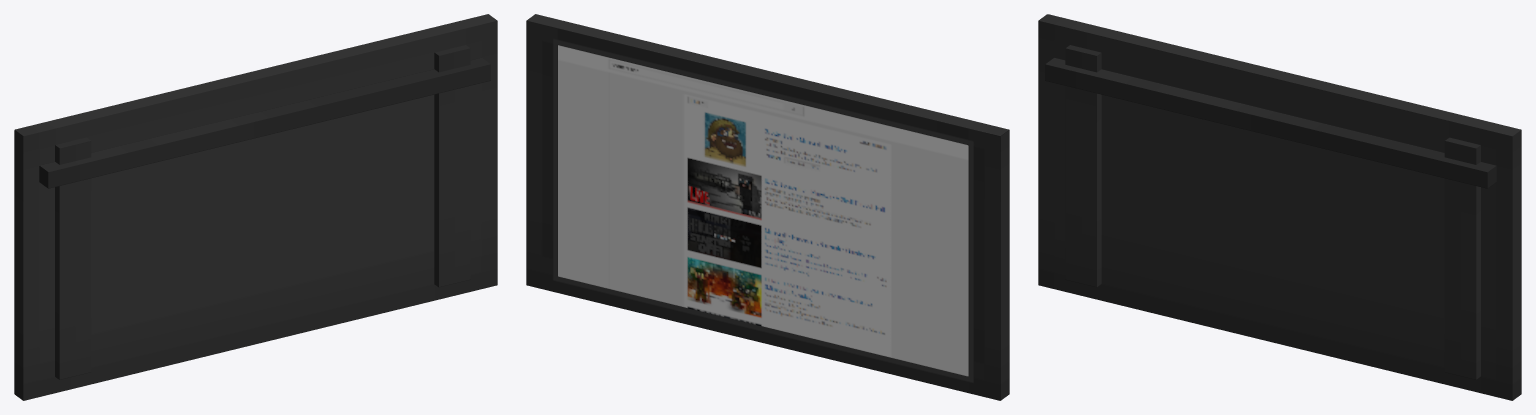
File: flatscreen_t_v__youtube.obj
The picture shows the model from 3 angles, left to right: view 1: azimuth 30°, elevation 25°; view 2: azimuth 150°, elevation 25°; view 3: azimuth 330°, elevation 25°; orthographic projection.
Parts seen in each view (by area): view 1: li, ll, lk, lj; view 2: lm, li; view 3: li, ll, lj, lk.
Part boxes in pixels (x1=…): li: x1=14, y1=14, x2=497, y2=400; ll: x1=39, y1=57, x2=490, y2=188; lk: x1=434, y1=45, x2=470, y2=287; lj: x1=55, y1=137, x2=91, y2=379; lm: x1=558, y1=45, x2=968, y2=376; li: x1=526, y1=14, x2=1009, y2=400; li: x1=1038, y1=14, x2=1521, y2=400; ll: x1=1045, y1=57, x2=1496, y2=188; lj: x1=1065, y1=45, x2=1101, y2=287; lk: x1=1444, y1=137, x2=1480, y2=379.
Size of the model in its own units: 1.88 by 1 by 0.1256.
Materials: 1 (1 with a texture image).
